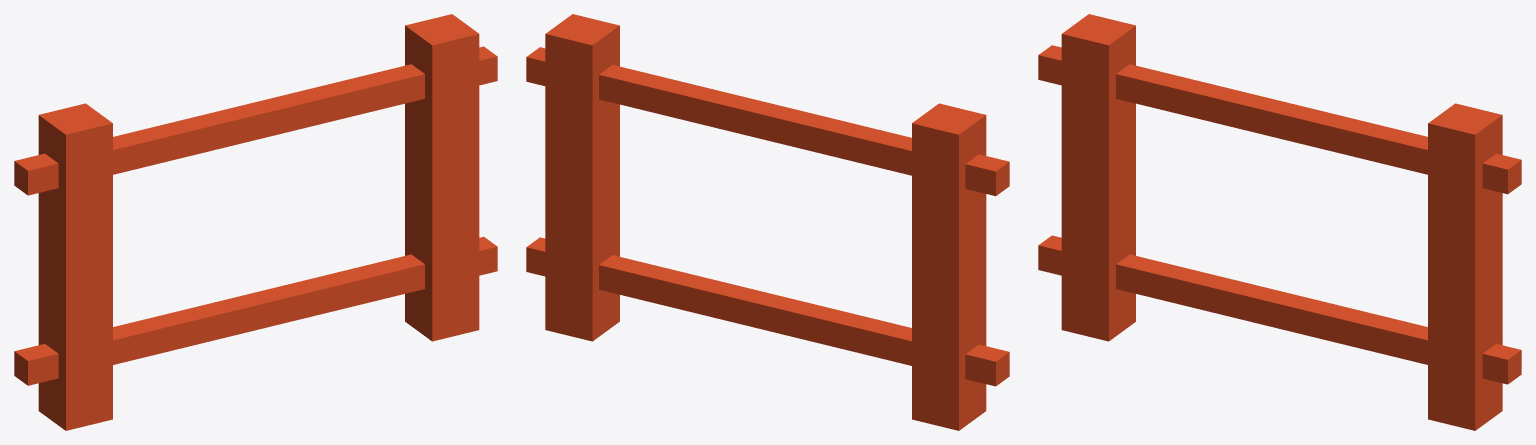
The model's file is Fence1.fbx.
3 renders of one model, left to right at view 1: azimuth 30°, elevation 25°; view 2: azimuth 150°, elevation 25°; view 3: azimuth 330°, elevation 25°, orthographic.
Visible parts, largest first — view 1: Fence4; view 2: Fence4; view 3: Fence4.
Boxes of the visible parts, bbox=[...] form: Fence4: bbox=[14, 14, 497, 430]; Fence4: bbox=[526, 14, 1009, 430]; Fence4: bbox=[1038, 14, 1521, 430].
Size of the model in its own units: 39821 by 24000 by 4000.
